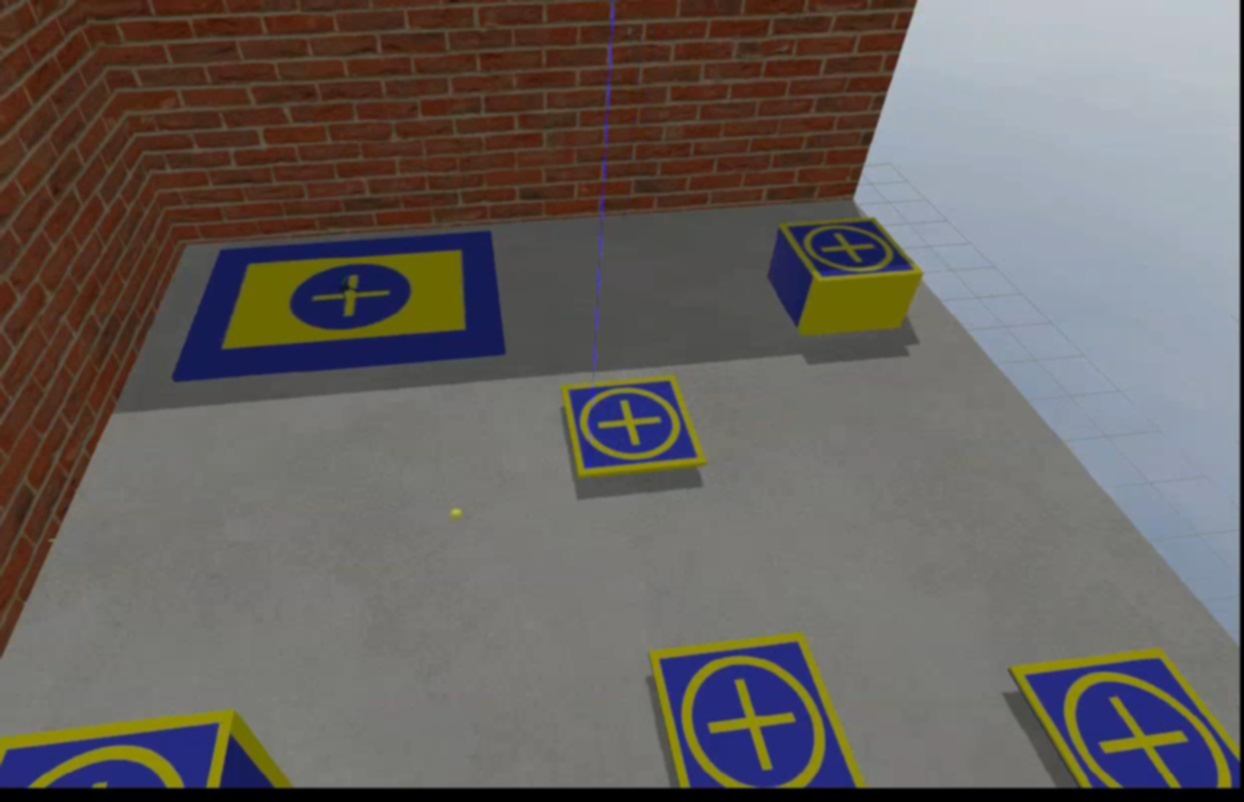large_base: (174, 234, 511, 382)
small_base: (1009, 648, 1236, 801), (653, 630, 864, 793), (0, 711, 252, 792), (561, 378, 710, 478), (779, 220, 923, 288)
